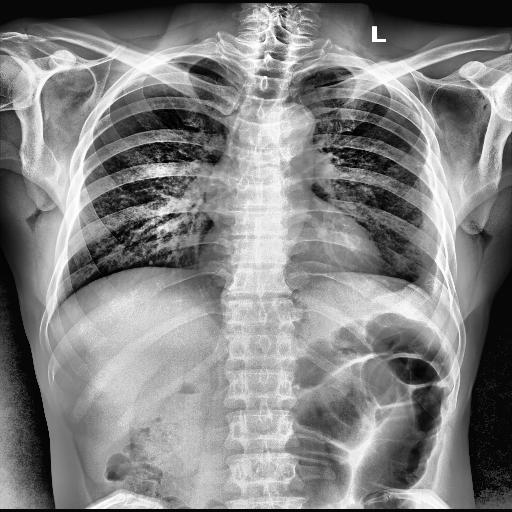0- Aortic enlargement: (266, 101, 314, 158), (257, 100, 317, 143), (266, 102, 312, 156)
10- Pleural effusion: (406, 261, 448, 319), (404, 256, 450, 300), (424, 260, 450, 304)
11- Pleural thickening: (424, 260, 450, 304)
5- ILD: (326, 150, 436, 280), (86, 150, 202, 272), (110, 137, 198, 254), (344, 162, 430, 272)
